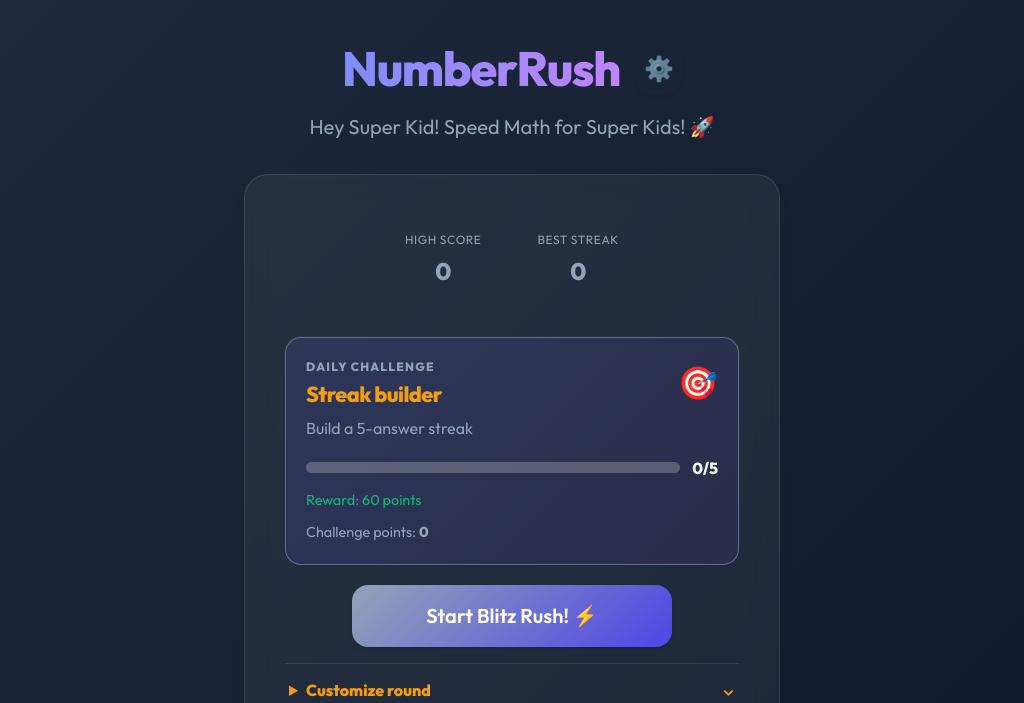
Scenario: App keyboard gameplay › preserves native Enter activation for focused game controls
Click the button "Start Blitz Rush! ⚡". click: click(512, 616)
box: [352, 585, 672, 647]
(page scrolled)
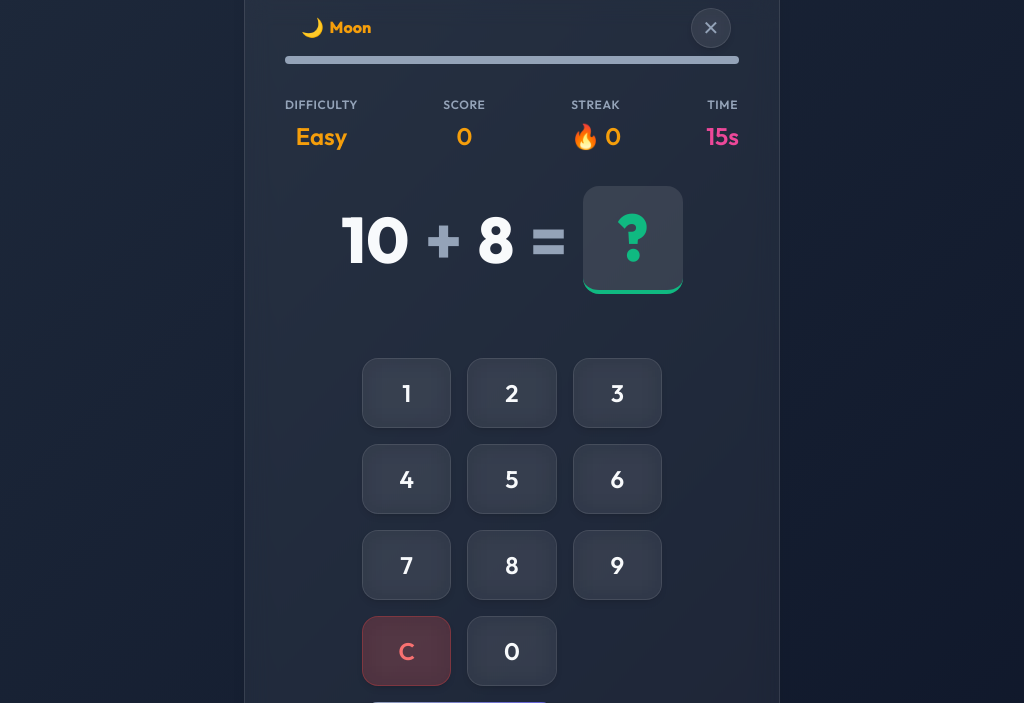
Press 1
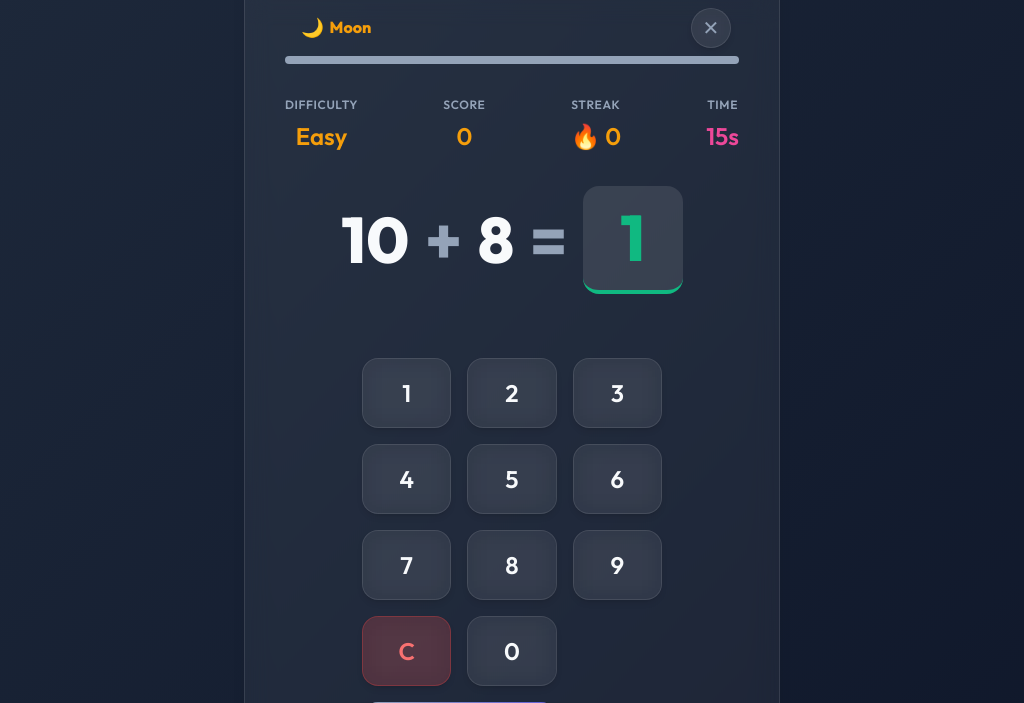
Press Enter in the button named "Enter 2", box [467, 358, 557, 428]
Now the element named "Your current answer is 1" is shown, box [285, 186, 739, 294]
# Browsers dispatch the button's click after an unhandled Enter keydown.
Click the button named "Enter 2". click: click(512, 393)
box: [467, 358, 557, 428]
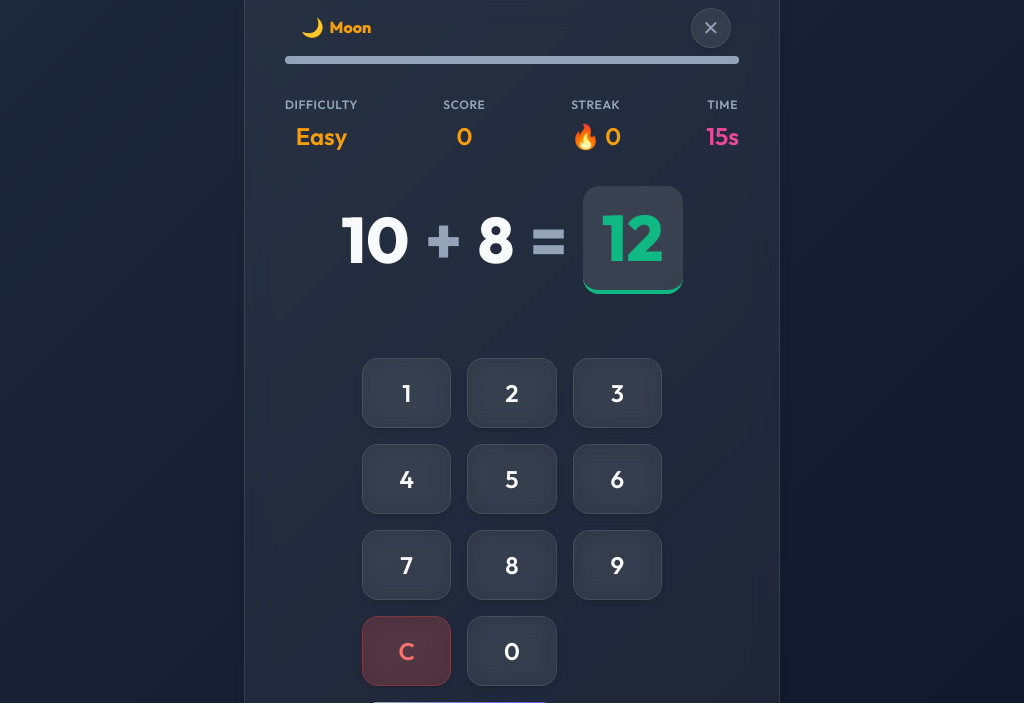
Now the element named "Your current answer is 12" is shown, box [285, 186, 739, 294]
